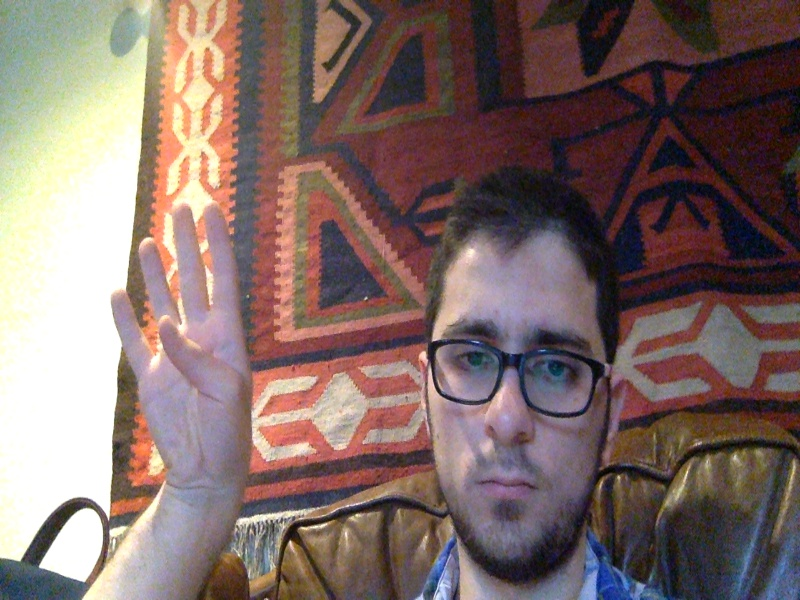4-hand: (110, 204, 251, 509)
